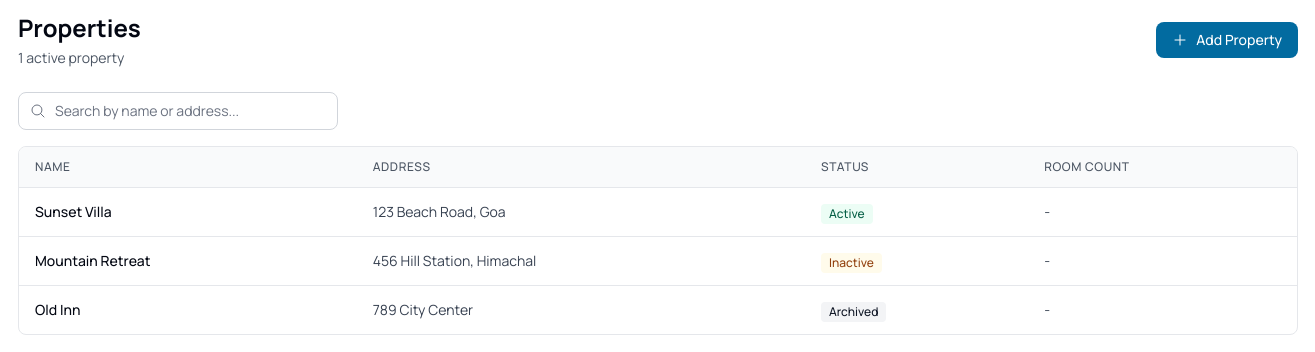
Test: PropertyList › filters properties by search input
The width and height of the screenshot is (1315, 352).
Expected: the text "Sunset Villa" is shown, [19,188,357,236]
Type "Mountain" into the field with placeholder "Search by name or address..." at (178, 111), box [18,92,338,130]
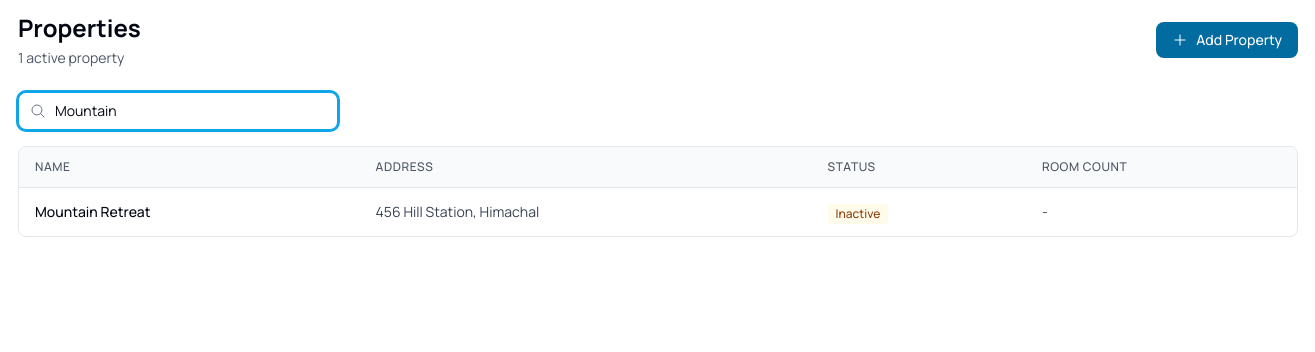
Expected: the text "Mountain Retreat" is shown, [19,188,360,236]
Expected: the text "Sunset Villa" is not shown
